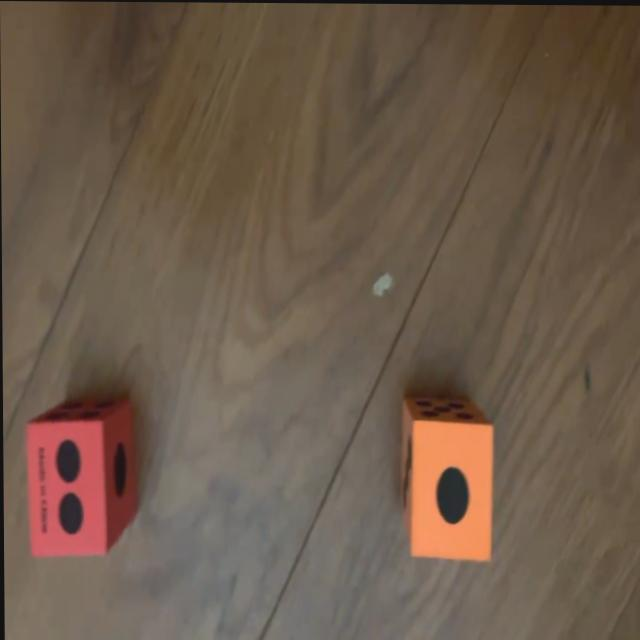cube: (26, 394, 138, 559)
